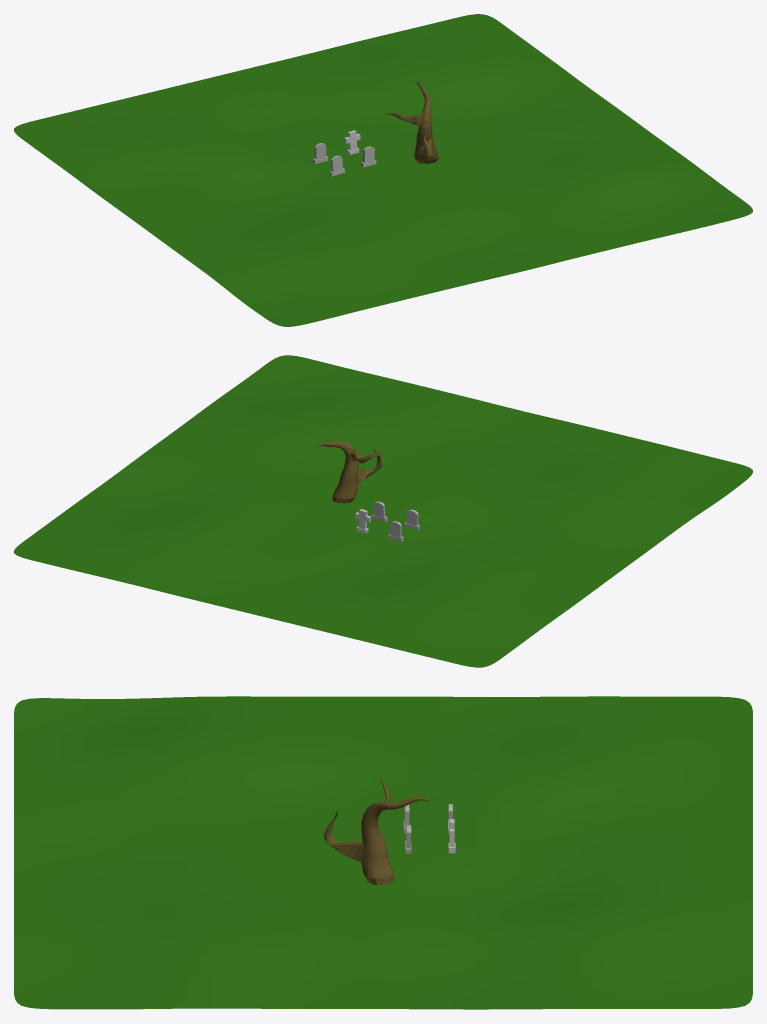
File: outdoor_scene.glb
3 views of the same model, one above another, from view 1: azimuth 30°, elevation 25°; view 2: azimuth 150°, elevation 25°; view 3: azimuth 270°, elevation 25° (orthographic). The views are drawn at different scales.
Parts seen in each view (by area): view 1: grass, tree; view 2: grass, tree; view 3: grass, tree.
Boxes of the visible parts, x1=… form: grass: x1=14, y1=14, x2=752, y2=326; tree: x1=385, y1=81, x2=438, y2=163; grass: x1=14, y1=355, x2=752, y2=667; tree: x1=315, y1=441, x2=384, y2=503; grass: x1=14, y1=696, x2=752, y2=1009; tree: x1=324, y1=777, x2=431, y2=885.
Bounding box in the file's own units: 40 × 5.44 × 40.
